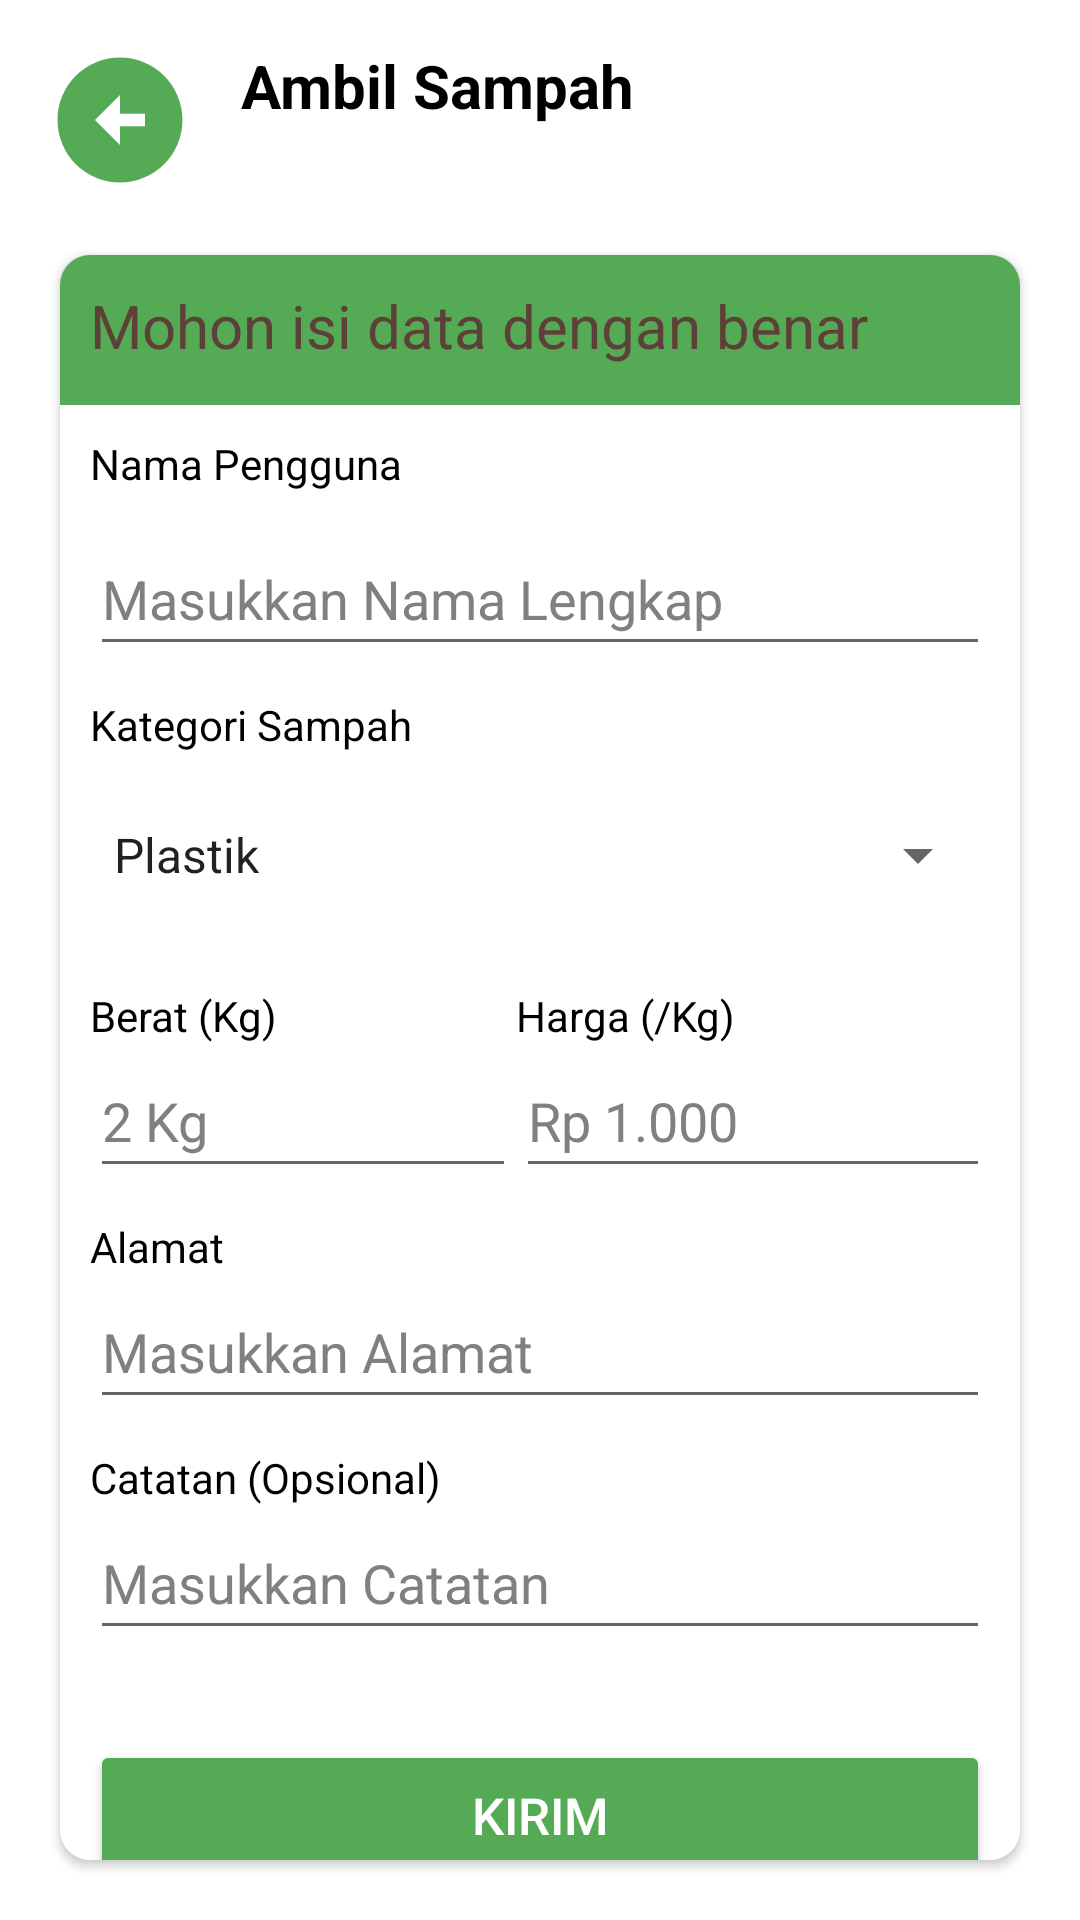

Icon click points for this 1080w x 1920h phone screenshot, format (x,y):
Navigate to the previous screen: (120,120)
